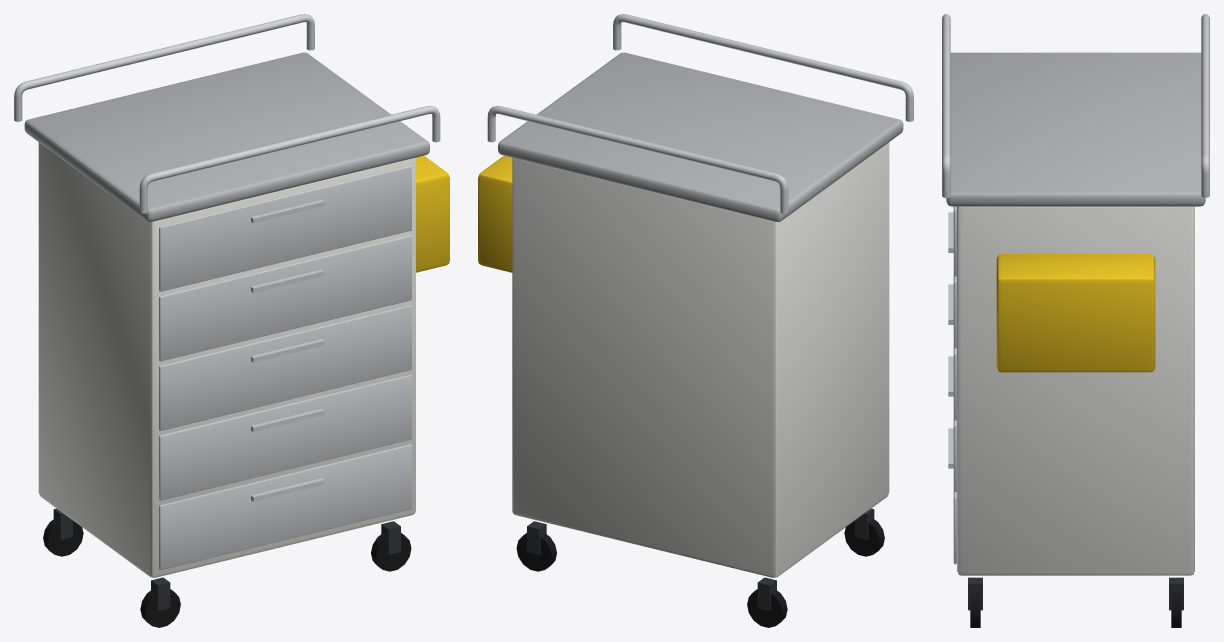
Rendered from instrument-trolley.glb.
The picture shows the model from 3 angles, left to right: view 1: azimuth 30°, elevation 25°; view 2: azimuth 150°, elevation 25°; view 3: azimuth 270°, elevation 25°; orthographic projection. The views are drawn at different scales.
Parts seen in each view (by area): view 1: Medical trolley: drawer cabinet, top tray with rails, castor (×7); view 2: Medical trolley: drawer cabinet, top tray with rails, castor (×6); view 3: Medical trolley: drawer cabinet, top tray with rails, castor (×7).
Boxes of the visible parts, x1,y1,x2,y2 form: Medical trolley: drawer cabinet, top tray with rails, castor (×7): (14, 14, 449, 627); Medical trolley: drawer cabinet, top tray with rails, castor (×6): (478, 14, 913, 627); Medical trolley: drawer cabinet, top tray with rails, castor (×7): (942, 14, 1209, 627).
Bounding box in the file's own units: 0.758 × 1.01 × 0.506.
